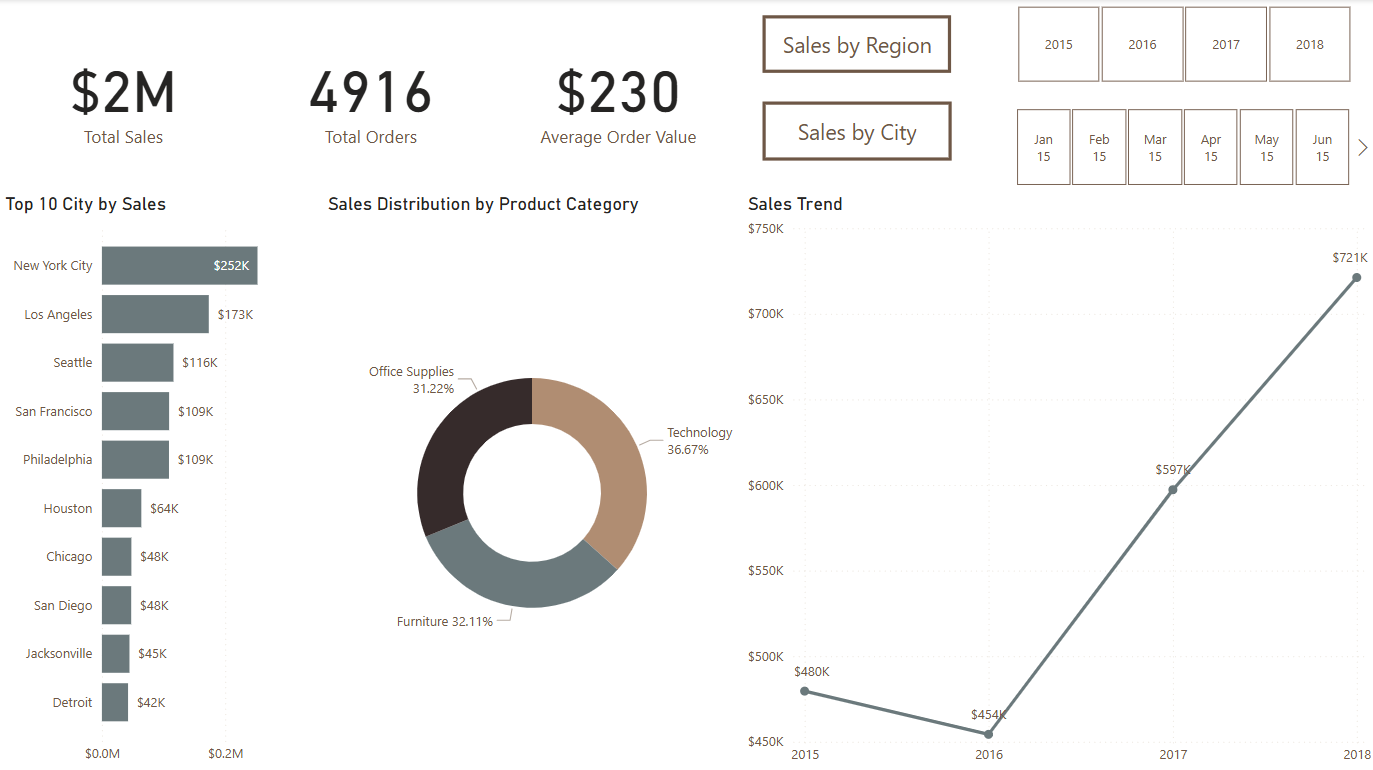

Layout of this report page (visuals, bound fields, positions):
{"tool":"powerbi","page":{"name":"Sales Performance","canvas":[1280,720],"ordinal":0},"visuals":[{"type":"card","fields":{"Values":["Sum(superstore_db superstore.Sales)"]},"box":[0,0,230.1,179.7],"z":0},{"type":"card","fields":{"Values":["superstore_db superstore.Average Order Value"]},"box":[460.3,0,230.1,179.7],"z":1000},{"type":"card","fields":{"Values":["Count(superstore_db superstore.Order_ID)"]},"box":[230.1,0,230.1,179.7],"z":2000},{"type":"slicer","fields":{"Values":["superstore_db superstore.Order_Date.Variation.Date Hierarchy.Year"]},"box":[920.5,0,359.5,84],"z":3000},{"type":"slicer","fields":{"Values":["superstore_db superstore.MonthYear"]},"box":[920.1,95.8,359.3,84.5],"z":4000},{"type":"donutChart","title":"Sales Distribution by Product Category","fields":{"Category":["superstore_db superstore.Category"],"Y":["Sum(superstore_db superstore.Sales)"]},"box":[300.1,180.4,390.3,539.6],"z":5000},{"type":"actionButton","box":[709.2,14.7,176.1,53.8],"z":7000},{"type":"actionButton","box":[709.2,95.4,176.1,55],"z":8000},{"type":"barChart","title":"Top 10 City by Sales","fields":{"Category":["superstore_db superstore.City"],"Y":["Sum(superstore_db superstore.Sales)"]},"box":[0,180.4,300.1,539.6],"z":9000},{"type":"lineChart","title":"Sales Trend","fields":{"Y":["Sum(superstore_db superstore.Sales)"],"Category":["superstore_db superstore.MonthYear.Variation.Date Hierarchy.Year","superstore_db superstore.MonthYear.Variation.Date Hierarchy.Quarter","superstore_db superstore.MonthYear.Variation.Date Hierarchy.Month","superstore_db superstore.MonthYear.Variation.Date Hierarchy.Day"]},"box":[690.4,179.7,589.6,540.9],"z":10000}]}

Visuals, with their boxes in screenshot pixels (x1, y1, x2, y2), scaled from the page's 1280x720 canvas onto the 1373x770 screenshot:
card - Sum(superstore_db superstore.Sales): l=0, t=0, r=247, b=192
card - superstore_db superstore.Average Order Value: l=494, t=0, r=741, b=192
card - Count(superstore_db superstore.Order_ID): l=247, t=0, r=494, b=192
slicer - superstore_db superstore.Order_Date.Variation.Date Hierarchy.Year: l=987, t=0, r=1372, b=90
slicer - superstore_db superstore.MonthYear: l=987, t=102, r=1372, b=193
"Sales Distribution by Product Category" donutChart: l=322, t=193, r=741, b=769
actionButton: l=761, t=16, r=950, b=73
actionButton: l=761, t=102, r=950, b=161
"Top 10 City by Sales" barChart: l=0, t=193, r=322, b=769
"Sales Trend" lineChart: l=741, t=192, r=1372, b=769
